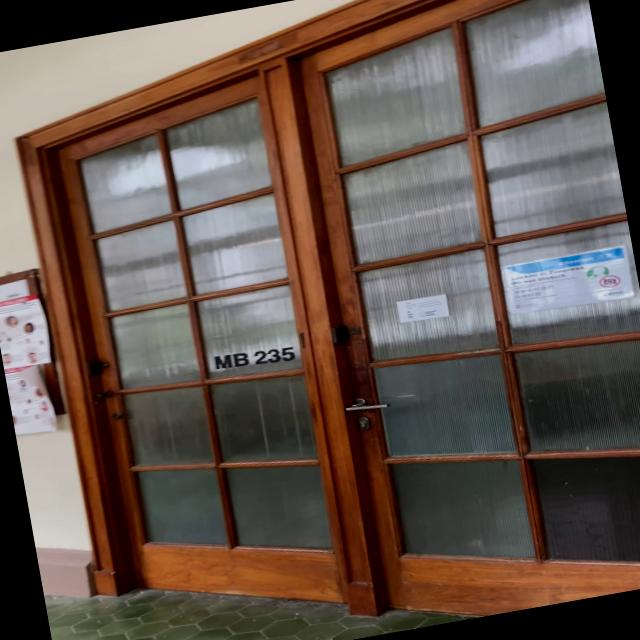room235Window: (204, 337, 302, 378)
